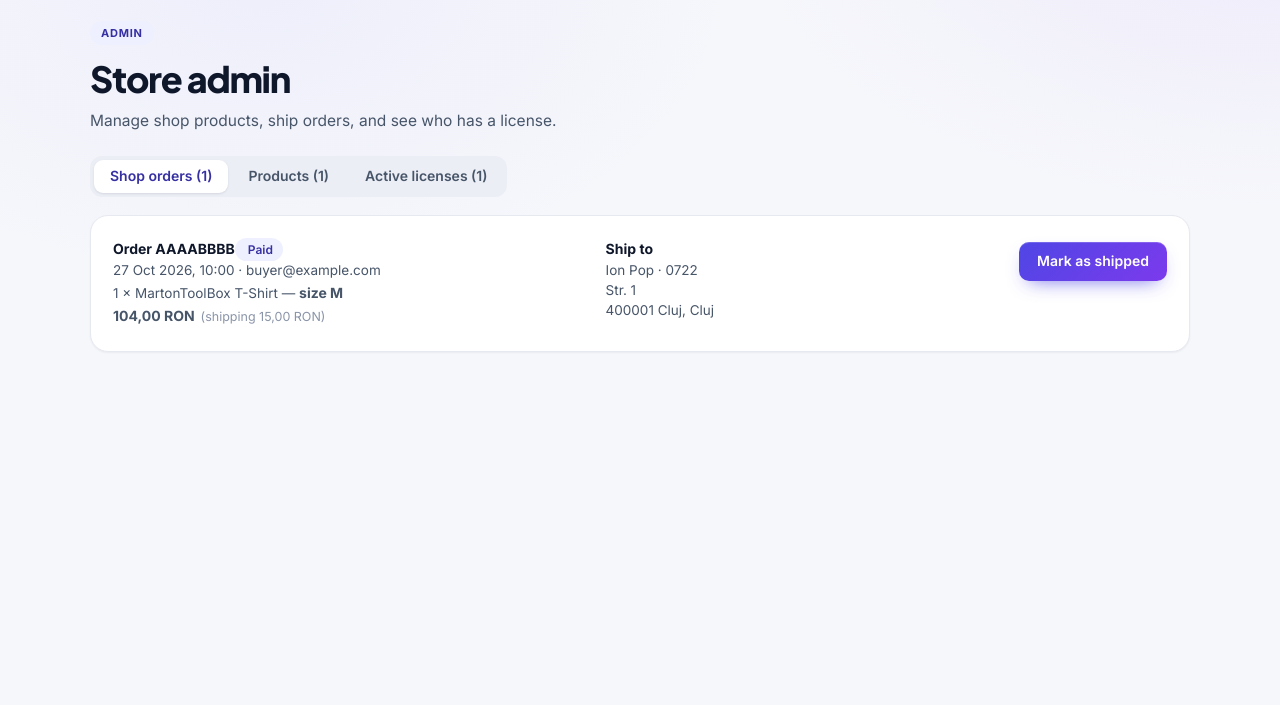
Test: AdminComponent › hides a product with one click
The width and height of the screenshot is (1280, 705).
Click the button "Products (1)": coordinates (289, 176) x1=232 y1=160 x2=345 y2=193
(page scrolled)
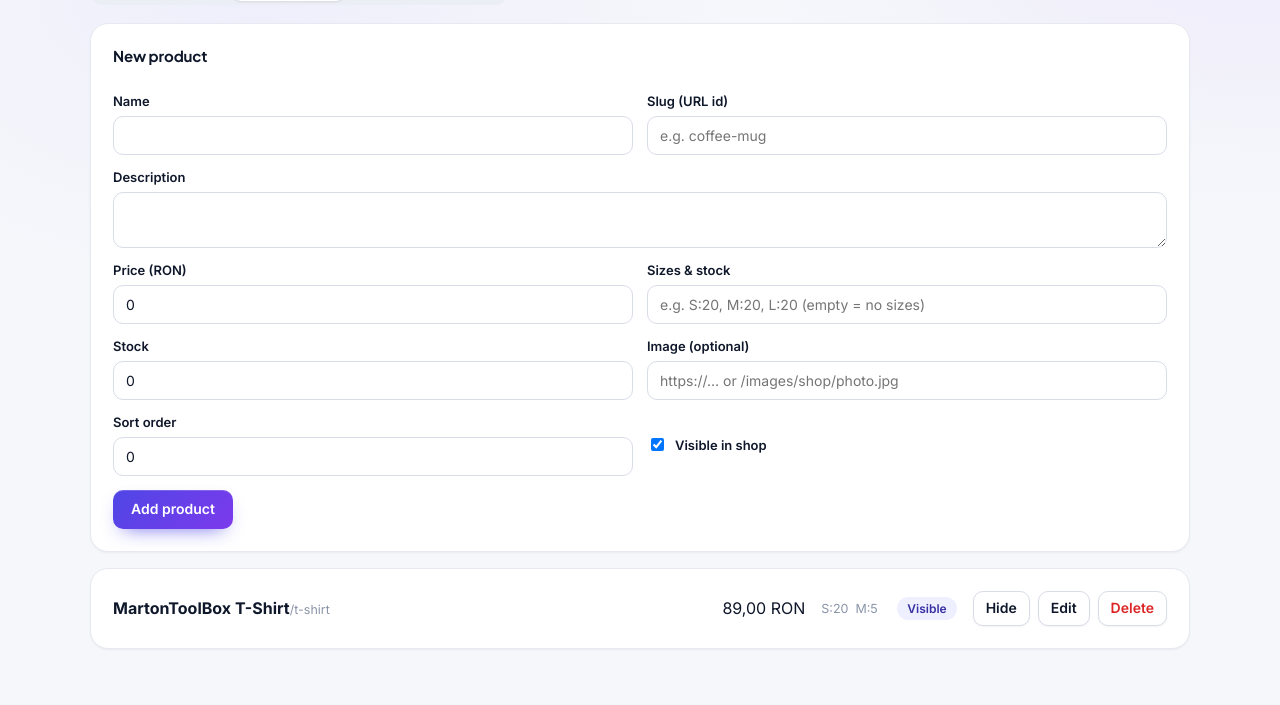
expect the text "S:20" is shown: met, box x1=821 y1=601 x2=856 y2=616
Click the button "Hide": coordinates (1001, 608) x1=973 y1=591 x2=1030 y2=626
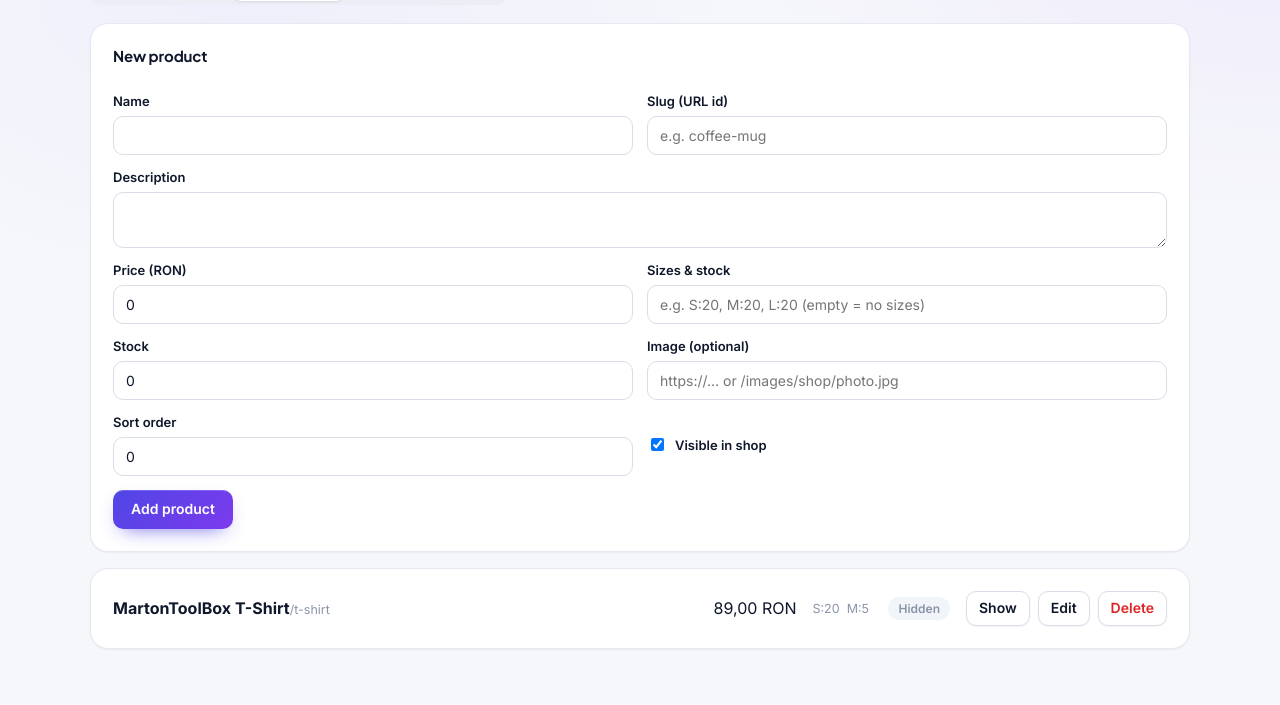
expect the text with class "status-pill" reads "Hidden": met, box x1=898 y1=601 x2=940 y2=616
